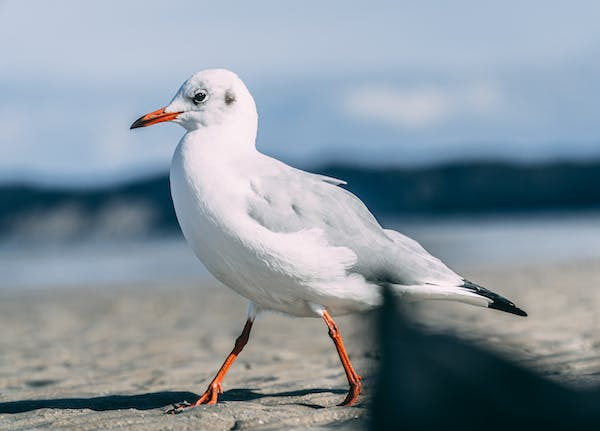Walking: (71, 50, 566, 414)
